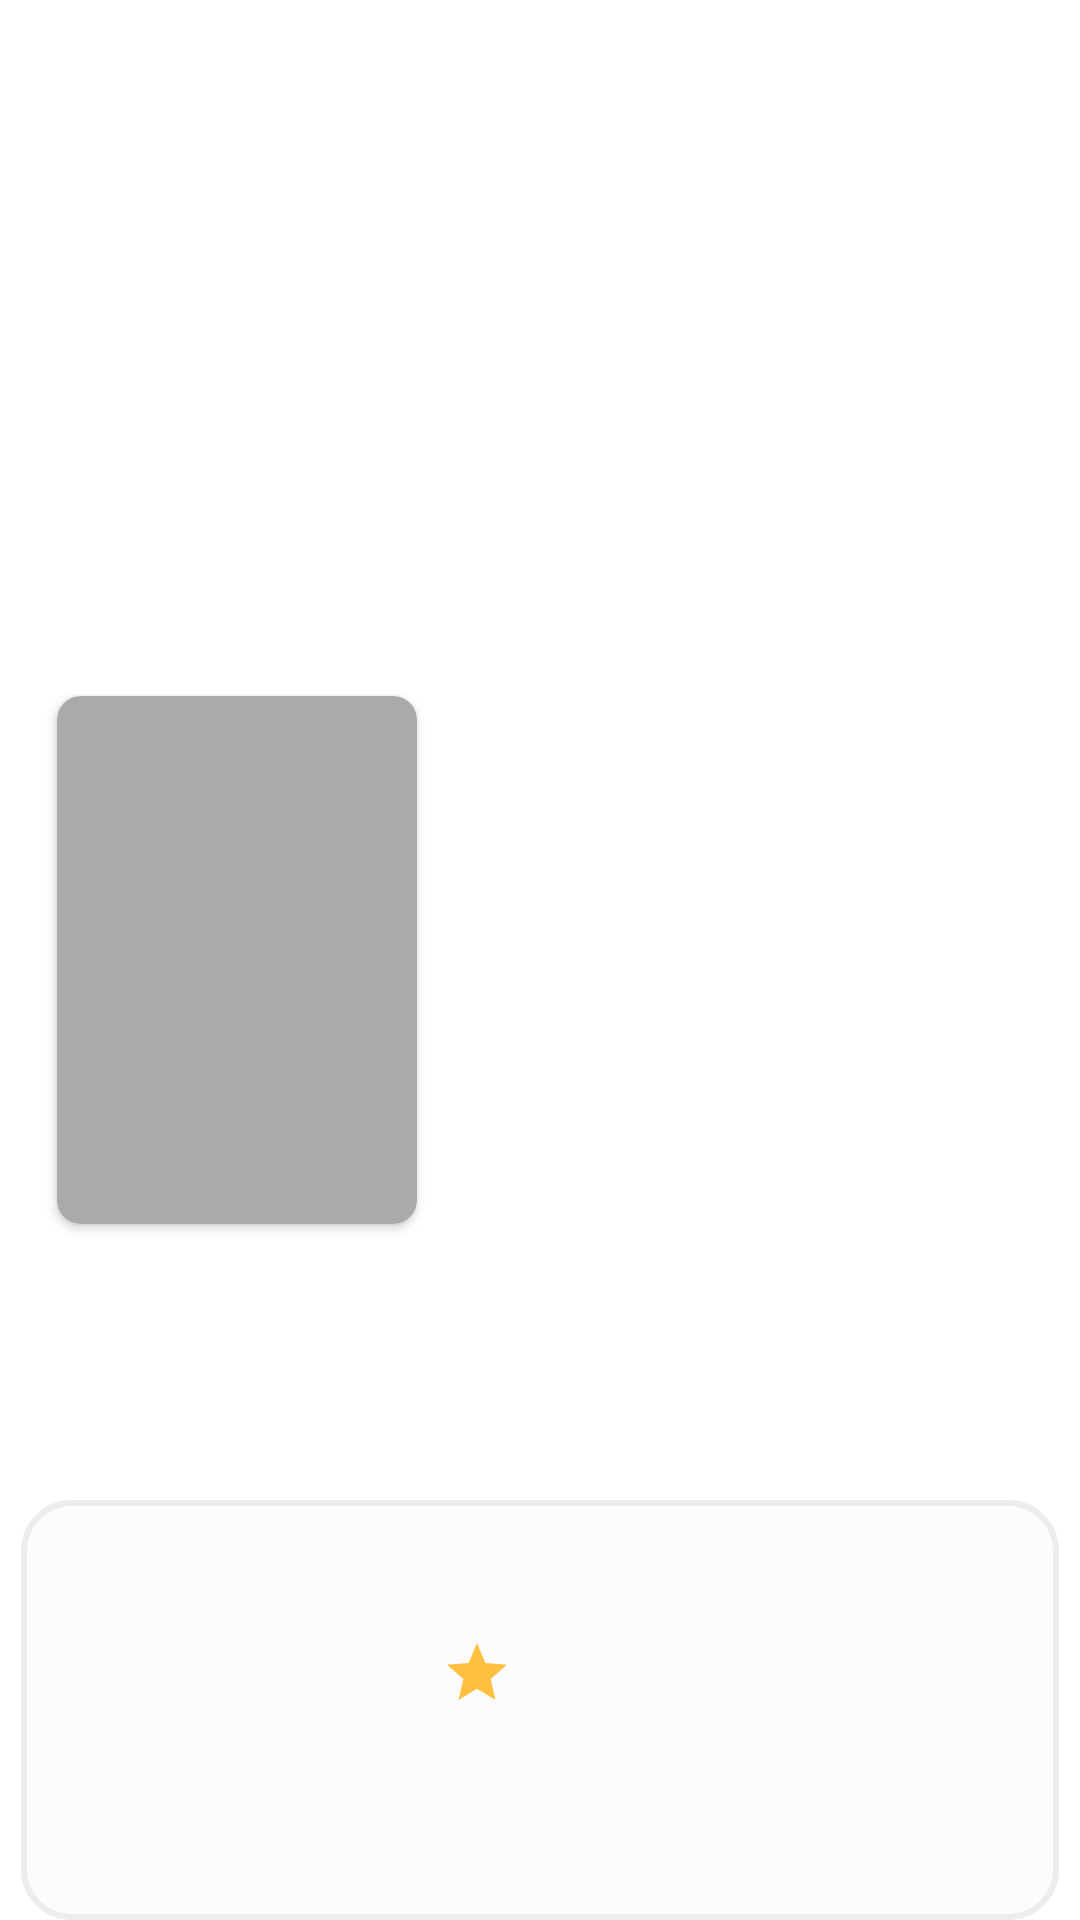

Named icons in this screenshot (1080px×1920px) and their bounding boxes, detection(x1, y1, x2, y2):
star: detection(447, 1643, 507, 1700)
